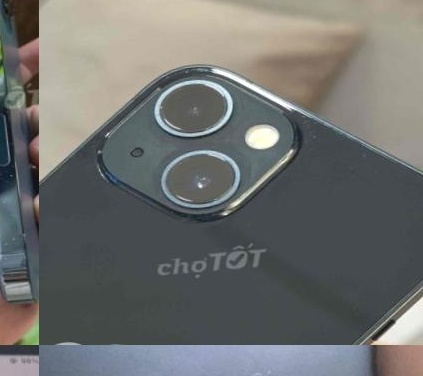scratch: (0, 155, 37, 269)
